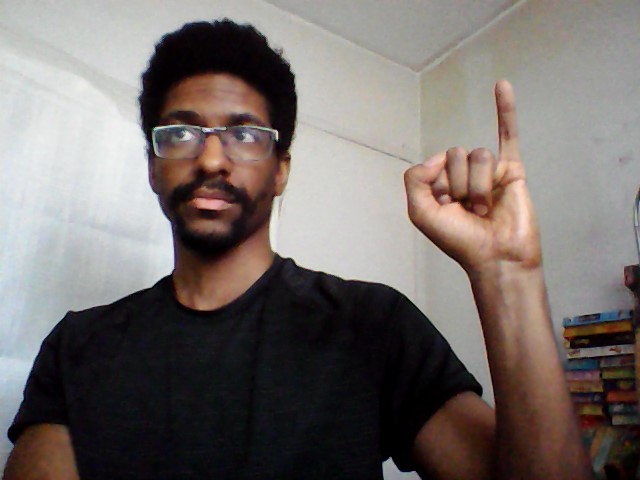i: (398, 73, 549, 265)
